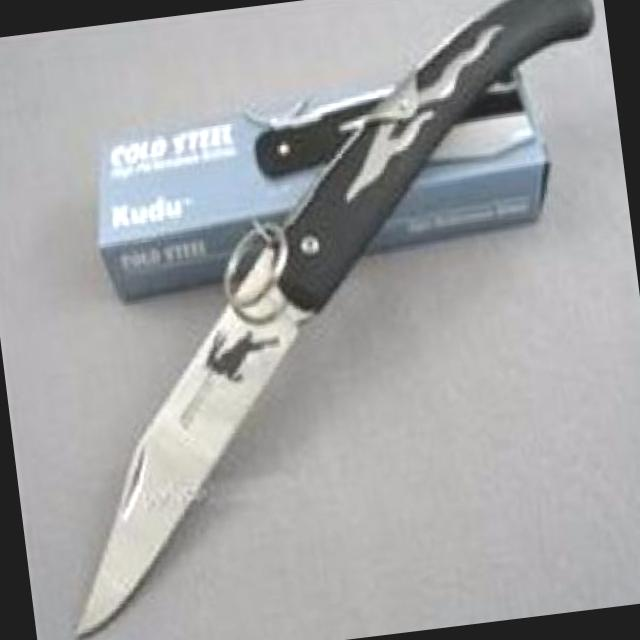knife: (18, 232, 369, 640)
